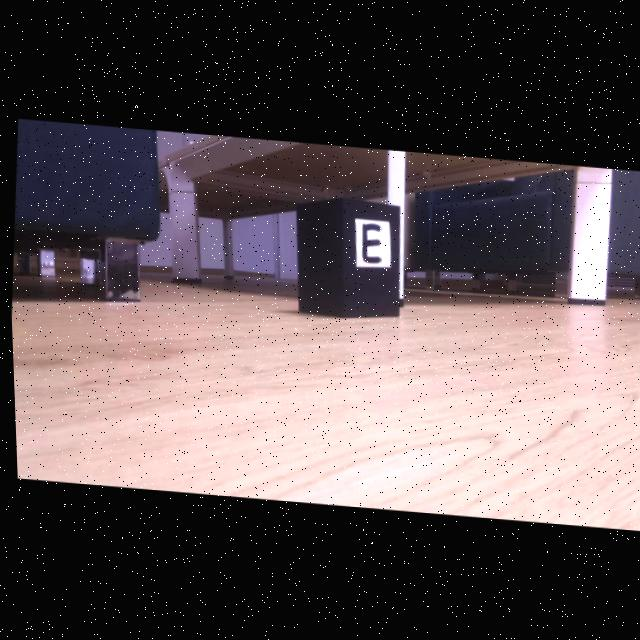E: (361, 223, 379, 261)
